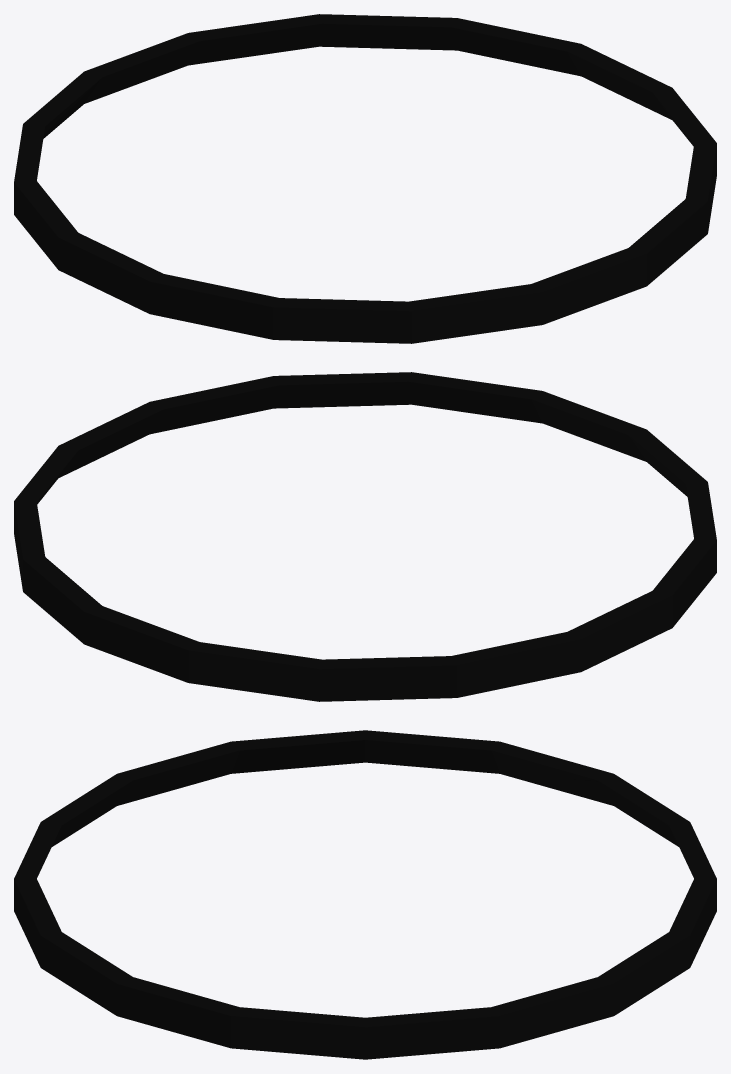
The model's file is Ring_Black.glb.
The picture shows the model from 3 angles, top to bottom: view 1: azimuth 30°, elevation 25°; view 2: azimuth 150°, elevation 25°; view 3: azimuth 270°, elevation 25°; orthographic projection.
Parts seen in each view (by area): view 1: ring; view 2: ring; view 3: ring.
Part boxes in pixels (x1,y1,x2,y2): ring: (14,14,716,343); ring: (14,372,716,701); ring: (14,730,716,1059).
Size of what is drawn, in the model's own units: 2 by 0.1015 by 2.
1 material, 1 textured.
